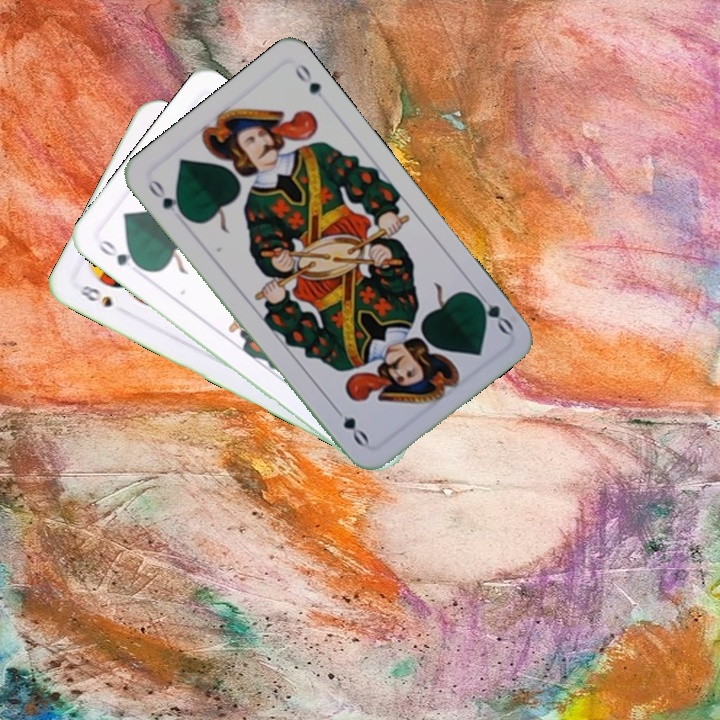GO: (468, 285, 516, 337), (144, 175, 190, 221), (94, 236, 146, 273)
S8: (75, 281, 115, 310)
